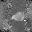people: (11, 11, 24, 22)
